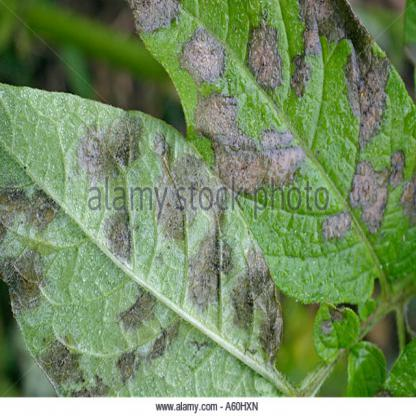Potato leaf early blight: (1, 83, 286, 395), (124, 1, 415, 306)
